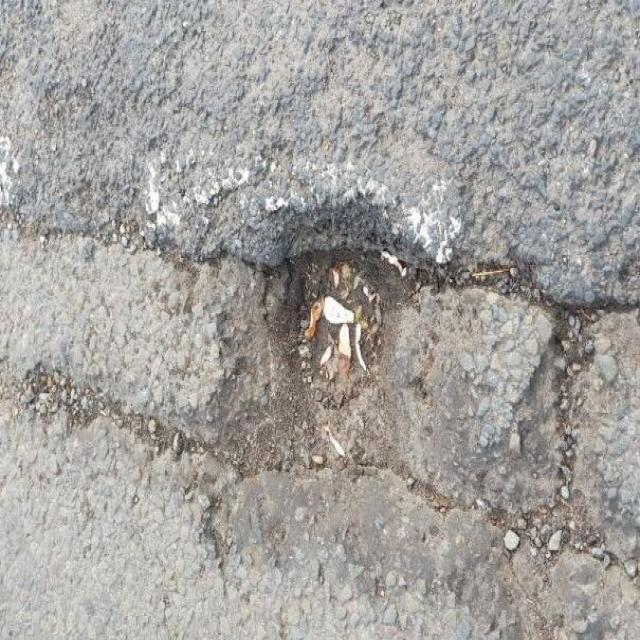pothole: (187, 178, 459, 501)
